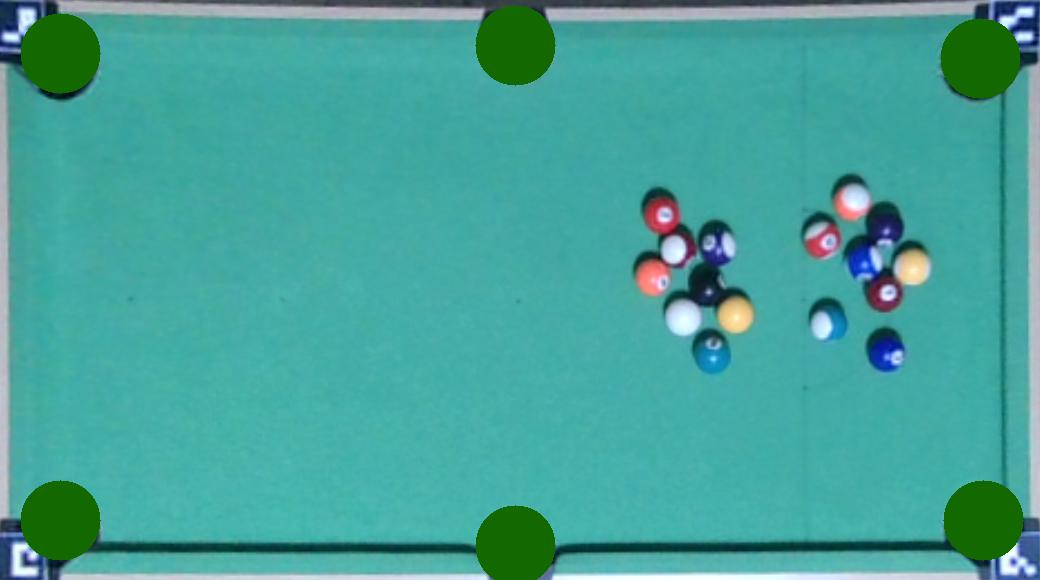Ball: (801, 217, 844, 259), (833, 181, 875, 221), (892, 246, 933, 286), (641, 193, 683, 232), (864, 271, 904, 311), (808, 303, 848, 343), (693, 333, 732, 374), (699, 224, 737, 265), (845, 242, 884, 281), (716, 295, 756, 333), (866, 333, 906, 371), (665, 299, 704, 337), (866, 205, 905, 243), (658, 231, 697, 268), (690, 268, 728, 305), (634, 261, 674, 295)
